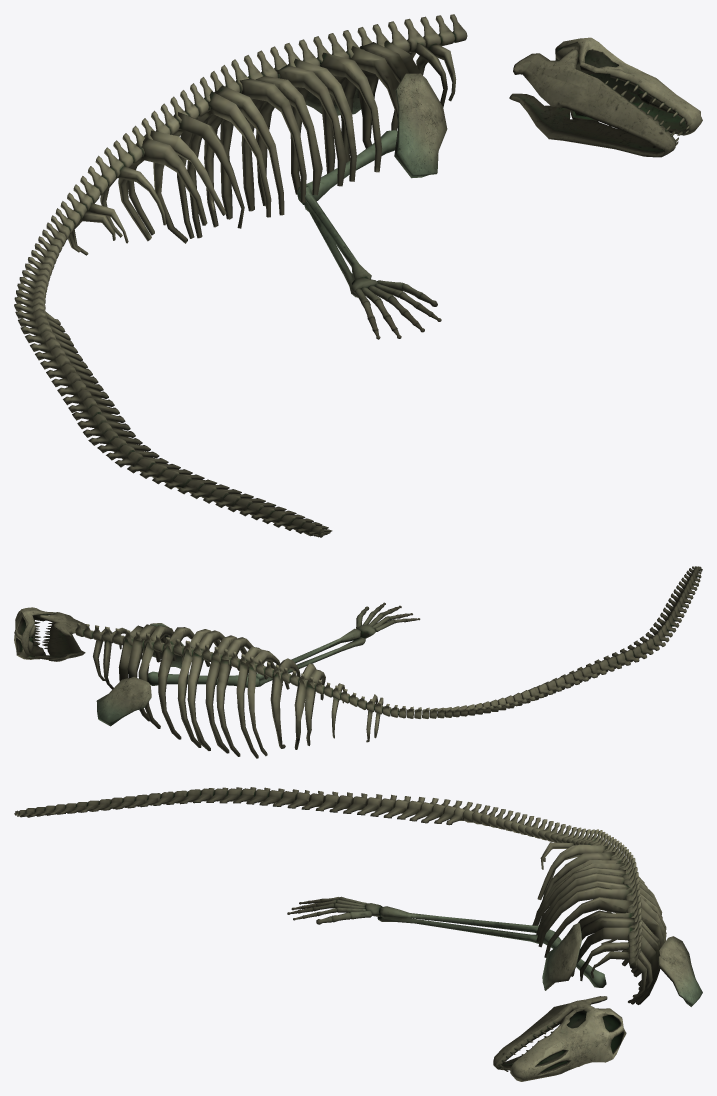
Rendered from Skeleton.fbx.
3 views of the same model, one above another, from view 1: azimuth 30°, elevation 25°; view 2: azimuth 150°, elevation 25°; view 3: azimuth 270°, elevation 25° (orthographic). The views are drawn at different scales.
Visible parts, largest first — view 1: ribcage, spine_shrink, skull_bottom, skull_top, shoulder, arm_upperarm, arm_ulna; view 2: ribcage, spine_shrink, shoulder, skull_bottom, skull_top, arm_upperarm, arm_radius, arm_ulna; view 3: spine_shrink, ribcage, skull_top, shoulder, skull_bottom, arm_ulna, arm_radius, arm_upperarm.
Boxes of the visible parts, left/top/right/bottom form: ribcage: left=68, top=40, right=456, bottom=255; spine_shrink: left=14, top=14, right=467, bottom=537; skull_bottom: left=509, top=49, right=675, bottom=157; skull_top: left=555, top=37, right=702, bottom=135; shoulder: left=305, top=73, right=447, bottom=178; arm_upperarm: left=297, top=130, right=397, bottom=204; arm_ulna: left=299, top=186, right=371, bottom=280; ribcage: left=93, top=624, right=383, bottom=758; spine_shrink: left=75, top=566, right=702, bottom=718; shoulder: left=96, top=623, right=184, bottom=726; skull_bottom: left=34, top=612, right=85, bottom=661; skull_top: left=14, top=607, right=52, bottom=659; arm_upperarm: left=147, top=671, right=259, bottom=687; arm_radius: left=256, top=637, right=365, bottom=686; arm_ulna: left=256, top=628, right=360, bottom=680; spine_shrink: left=14, top=787, right=642, bottom=968; ribcage: left=532, top=842, right=666, bottom=1004; skull_top: left=510, top=1007, right=626, bottom=1081; shoulder: left=542, top=923, right=702, bottom=1006; skull_bottom: left=493, top=996, right=607, bottom=1070; arm_ulna: left=379, top=906, right=538, bottom=933; arm_radius: left=377, top=916, right=539, bottom=943; arm_upperarm: left=543, top=929, right=606, bottom=987.
Size of the model in its own units: 2133 by 425 by 2130.
